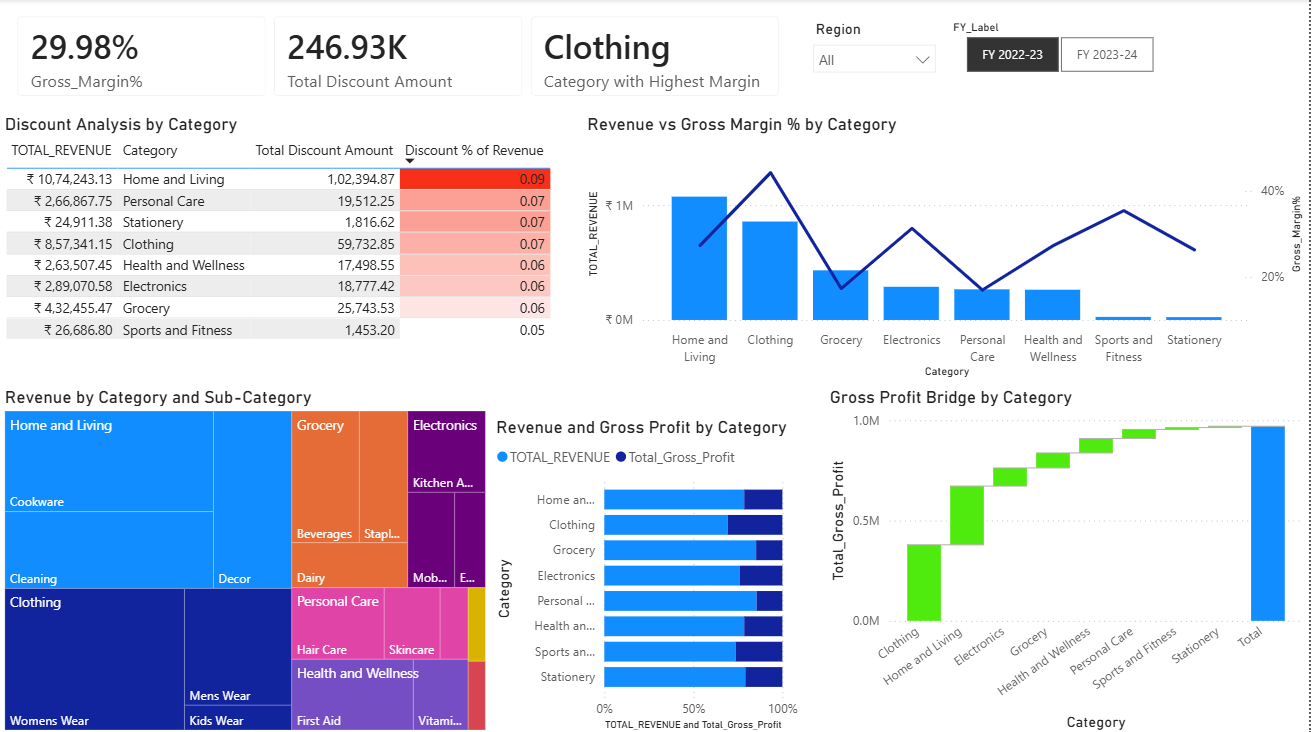

This screenshot's page, from the dashboard's own definition file:
{"tool":"powerbi","page":{"name":"Product Profitability","canvas":[1280,720],"ordinal":2},"visuals":[{"type":"hundredPercentStackedBarChart","title":"Revenue and Gross Profit by Category","fields":{"Category":["Sales_Transactions.Category"],"Y":["Foundational Revenue and Profitability Measures.TOTAL_REVENUE","Foundational Revenue and Profitability Measures.Total_Gross_Profit"]},"box":[480,408.8,305,311.2],"z":0},{"type":"lineClusteredColumnComboChart","title":"Revenue vs Gross Margin % by Category ","fields":{"Y":["Foundational Revenue and Profitability Measures.TOTAL_REVENUE"],"Y2":["Foundational Revenue and Profitability Measures.Gross_Margin%"],"Category":["Sales_Transactions.Category"]},"box":[570,112.5,710,262.5],"z":1000},{"type":"treemap","title":"Revenue by Category and Sub-Category ","fields":{"Group":["Products.Category"],"Details":["Products.Sub_Category"],"Values":["Foundational Revenue and Profitability Measures.TOTAL_REVENUE"]},"box":[0,378.8,480,341.2],"z":2000},{"type":"tableEx","title":"Discount Analysis by Category ","fields":{"Values":["Foundational Revenue and Profitability Measures.TOTAL_REVENUE","Sales_Transactions.Category","Foundational Revenue and Profitability Measures.Total Discount Amount","Foundational Revenue and Profitability Measures.Discount % of Revenue"]},"box":[0,112.5,543.8,255],"z":3000},{"type":"waterfallChart","title":"Gross Profit Bridge by Category","fields":{"Category":["Sales_Transactions.Category"],"Y":["Foundational Revenue and Profitability Measures.Total_Gross_Profit"]},"box":[807.5,378.8,472.5,341.2],"z":4000},{"type":"slicer","fields":{"Values":["Sales_Transactions.FY_Label"]},"box":[920,16.2,232.5,62.5],"z":5000},{"type":"slicer","fields":{"Values":["Stores.Region"]},"box":[785,16.2,140,70],"z":6000},{"type":"cardVisual","fields":{"Data":["Foundational Revenue and Profitability Measures.Gross_Margin%","Foundational Revenue and Profitability Measures.Total Discount Amount","Foundational Revenue and Profitability Measures.Category with Highest Margin"]},"box":[0,0,780,112.5],"z":7000}]}

Visuals, with their boxes in screenshot pixels (x1, y1, x2, y2), scaled from the page's 1280x720 canvas onto the 1312x732 screenshot:
"Revenue and Gross Profit by Category" hundredPercentStackedBarChart: x1=492 y1=416 x2=805 y2=731
"Revenue vs Gross Margin % by Category " lineClusteredColumnComboChart: x1=584 y1=114 x2=1311 y2=381
"Revenue by Category and Sub-Category " treemap: x1=0 y1=385 x2=492 y2=731
"Discount Analysis by Category " tableEx: x1=0 y1=114 x2=557 y2=374
"Gross Profit Bridge by Category" waterfallChart: x1=828 y1=385 x2=1311 y2=731
slicer - Sales_Transactions.FY_Label: x1=943 y1=16 x2=1181 y2=80
slicer - Stores.Region: x1=805 y1=16 x2=948 y2=88
cardVisual - Foundational Revenue and Profitability Measures.Gross_Margin% x Foundational Revenue and Profitability Measures.Total Discount Amount: x1=0 y1=0 x2=799 y2=114
